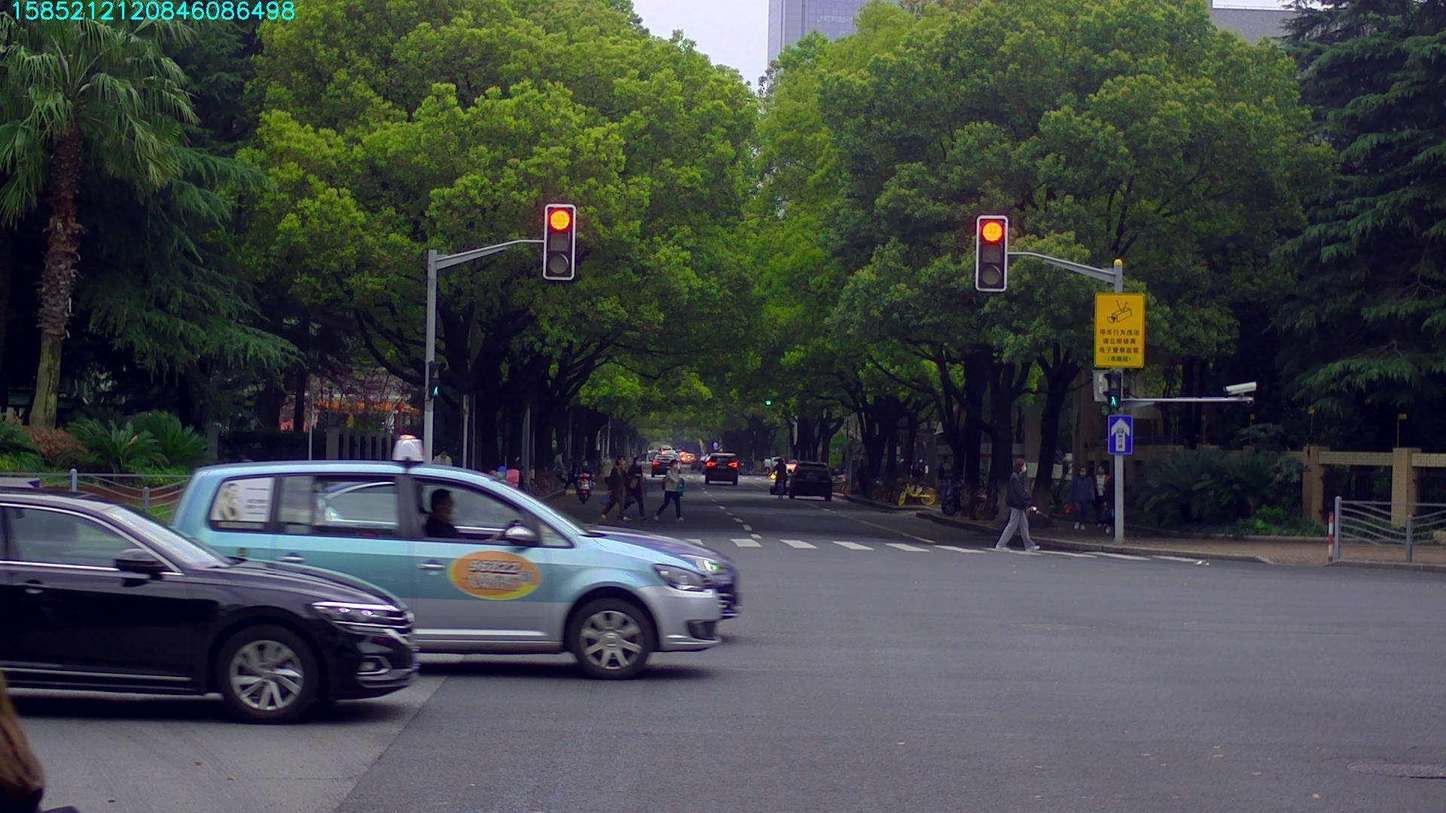red: (978, 218, 1006, 290), (546, 206, 572, 279)
